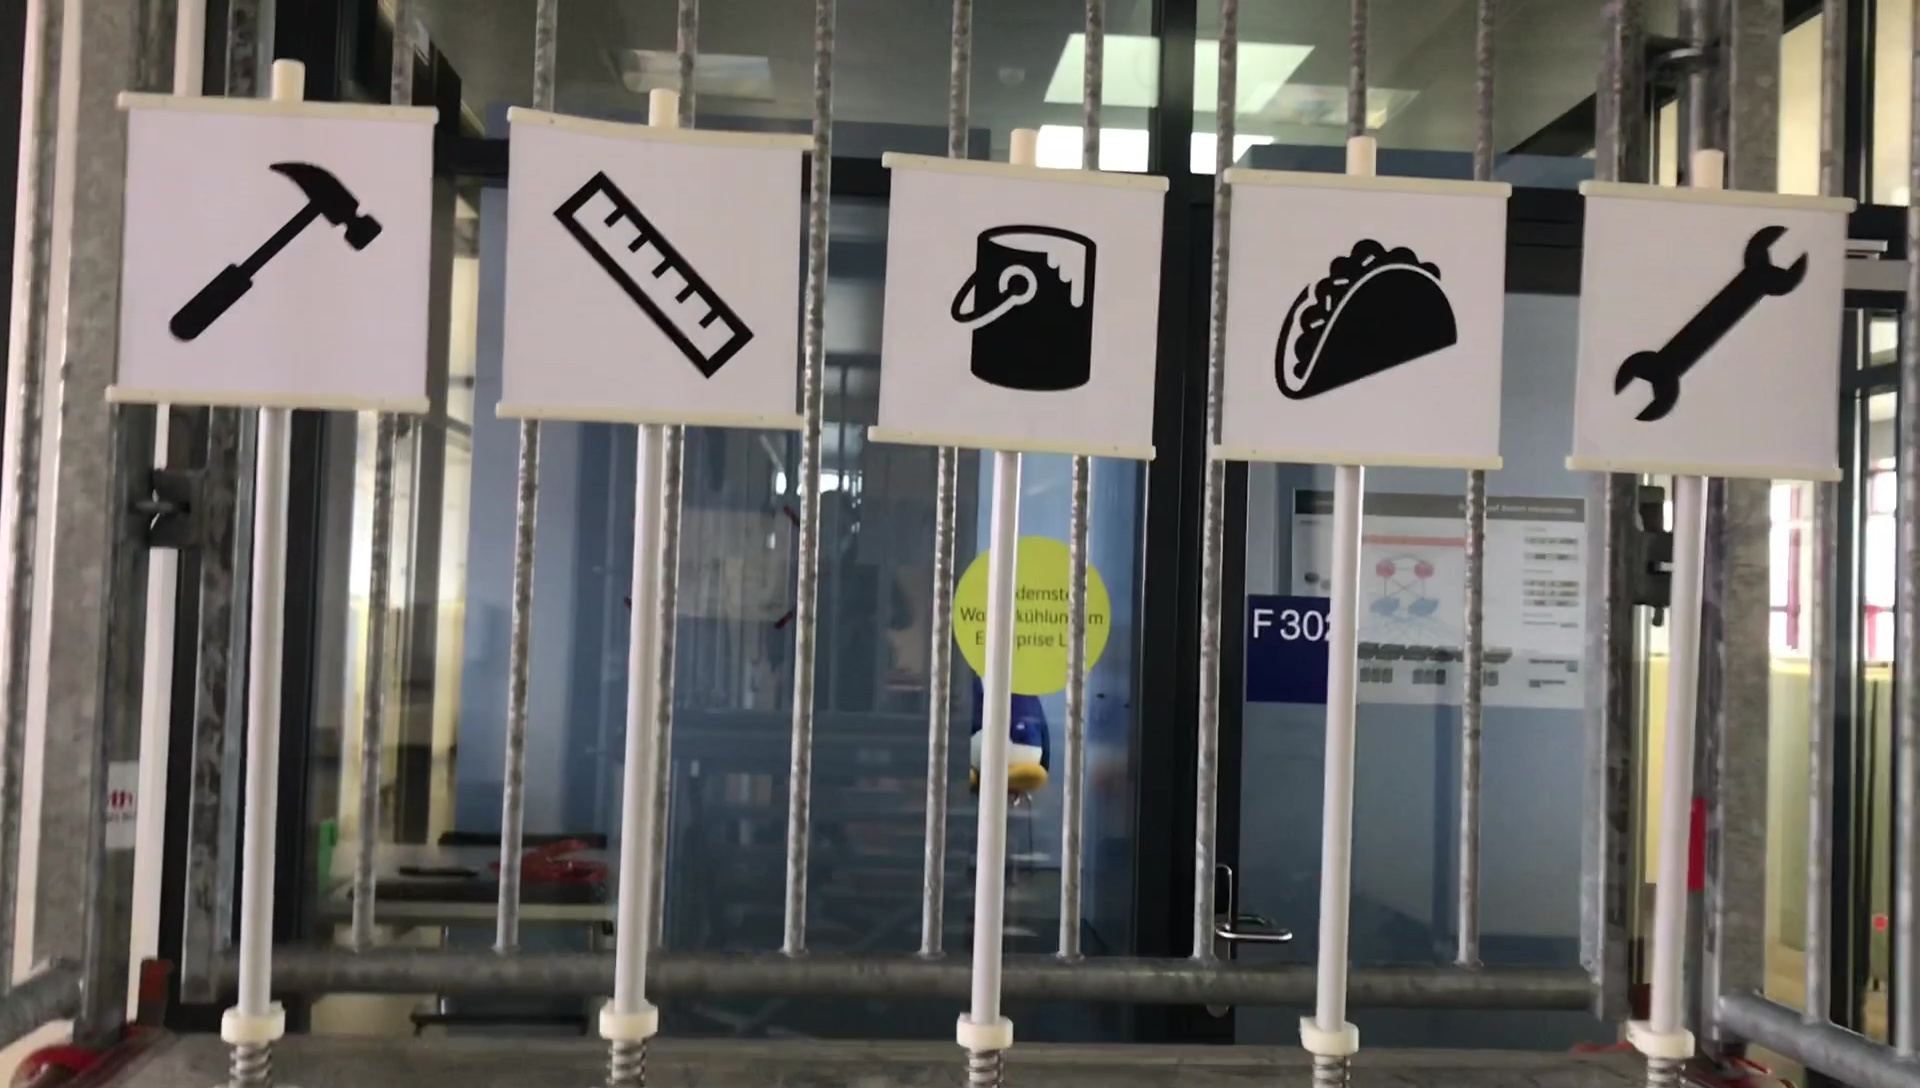bucket: (953, 208, 1120, 396)
hammer: (166, 150, 415, 353)
ruler: (549, 162, 770, 385)
taco: (1273, 232, 1455, 411)
wrench: (1605, 228, 1813, 425)
